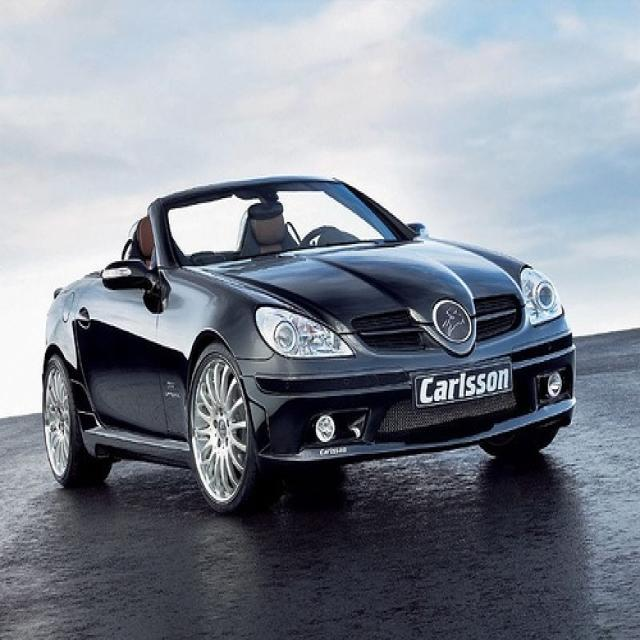car: (39, 174, 578, 515)
